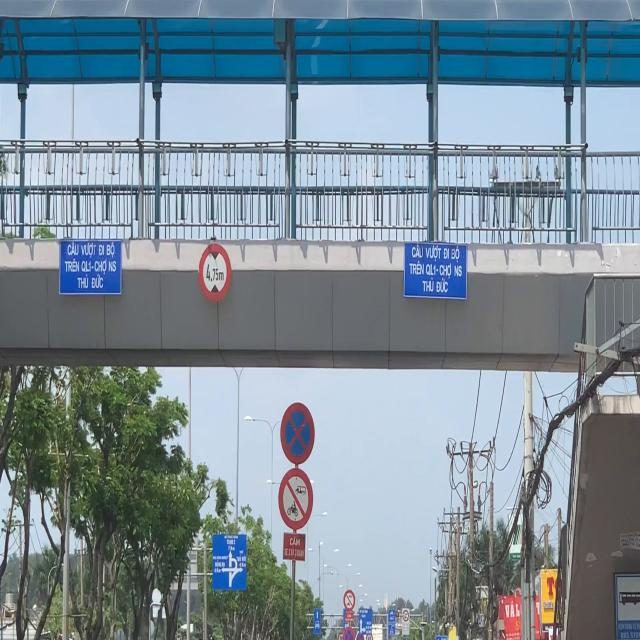Cam con lai: (278, 468, 314, 534), (343, 590, 356, 612)
Cam dung va do: (280, 402, 315, 465)
Chieu cao toi da: (198, 243, 232, 302)
